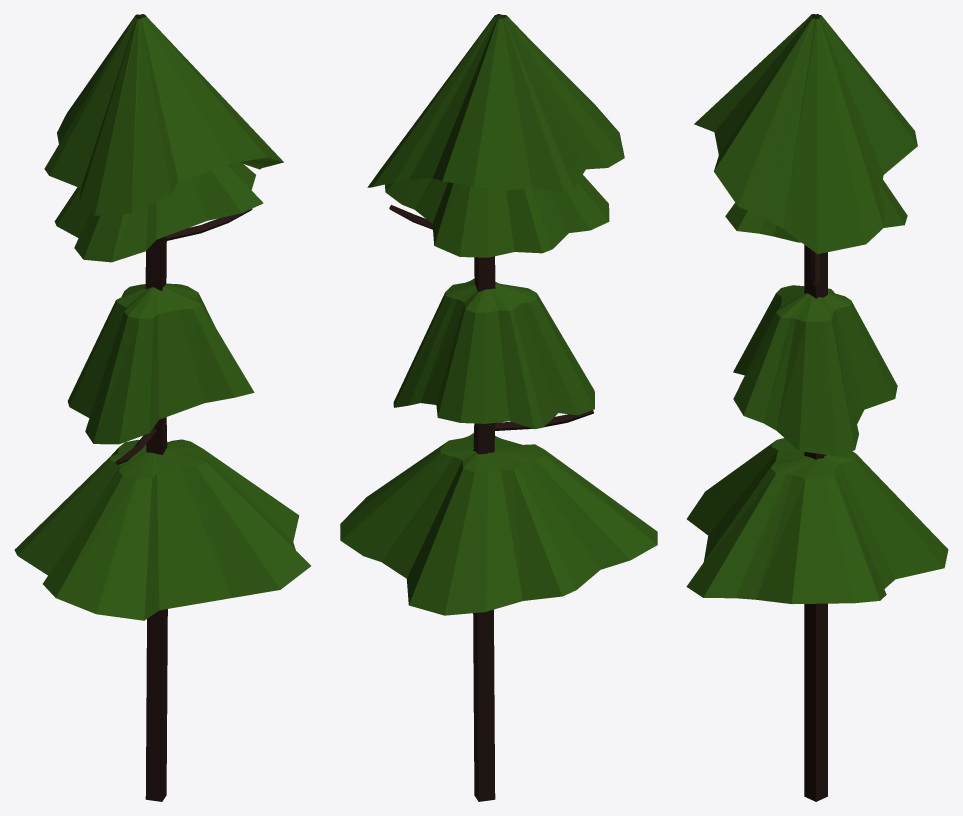
Rendered from SM_tree_conifer_07.FBX.
3 renders of one model, left to right at view 1: azimuth 30°, elevation 25°; view 2: azimuth 150°, elevation 25°; view 3: azimuth 270°, elevation 25°, orthographic.
Parts seen in each view (by area): view 1: Object049; view 2: Object049; view 3: Object049.
Boxes of the visible parts, left/top/right/bottom form: Object049: left=14, top=14, right=310, bottom=801; Object049: left=340, top=14, right=657, bottom=801; Object049: left=686, top=14, right=948, bottom=801.
Bounding box in the file's own units: 406 × 1139 × 350.
